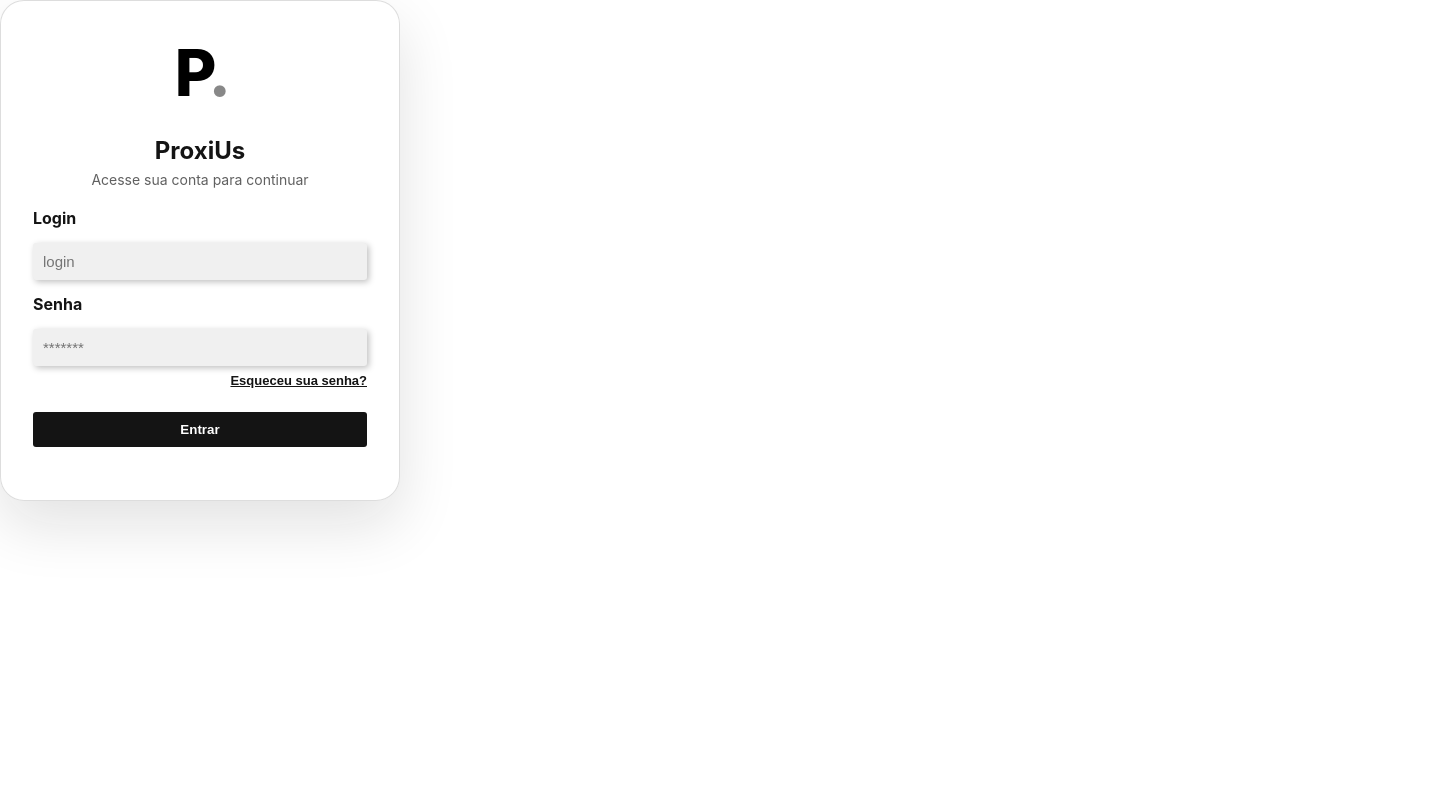
Test: shows the backend login error without calling browser alert
Type "usuario" into the field with placeholder "login" at (200, 261), box [33,243,367,280]
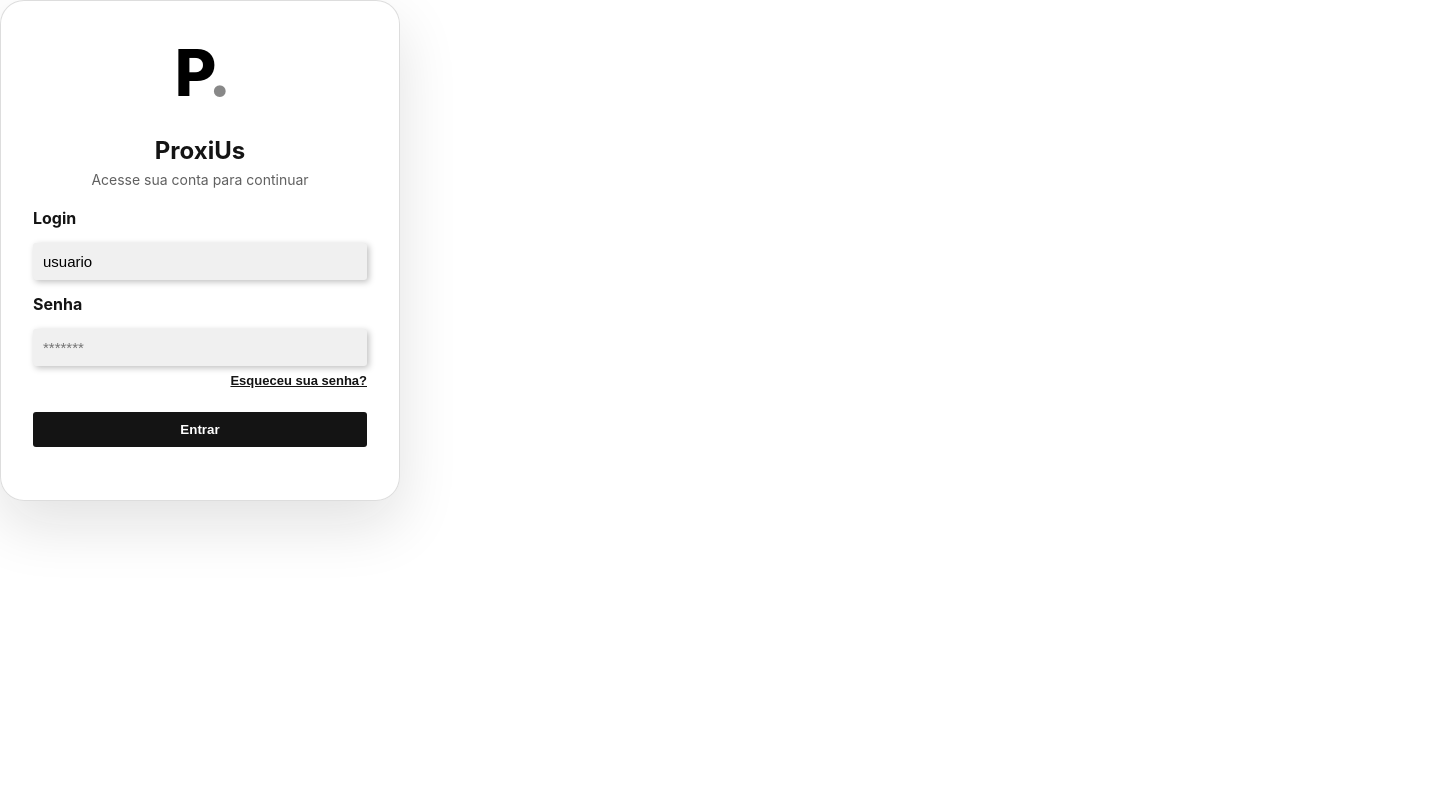
Type "senha" into the password field with placeholder "*******" at (200, 347), box [33,329,367,366]
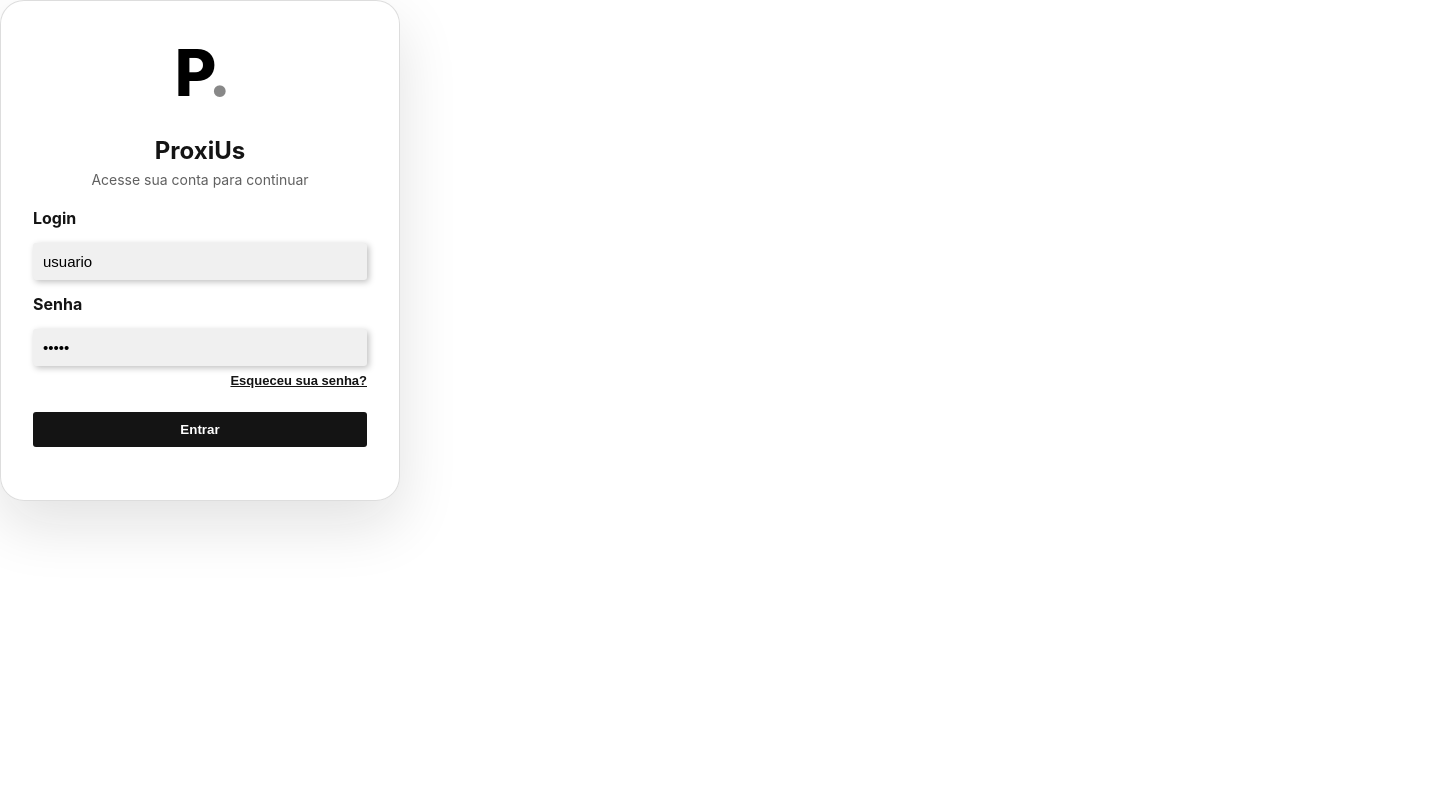
Click the button "Entrar" at (200, 429), box [33,412,367,446]
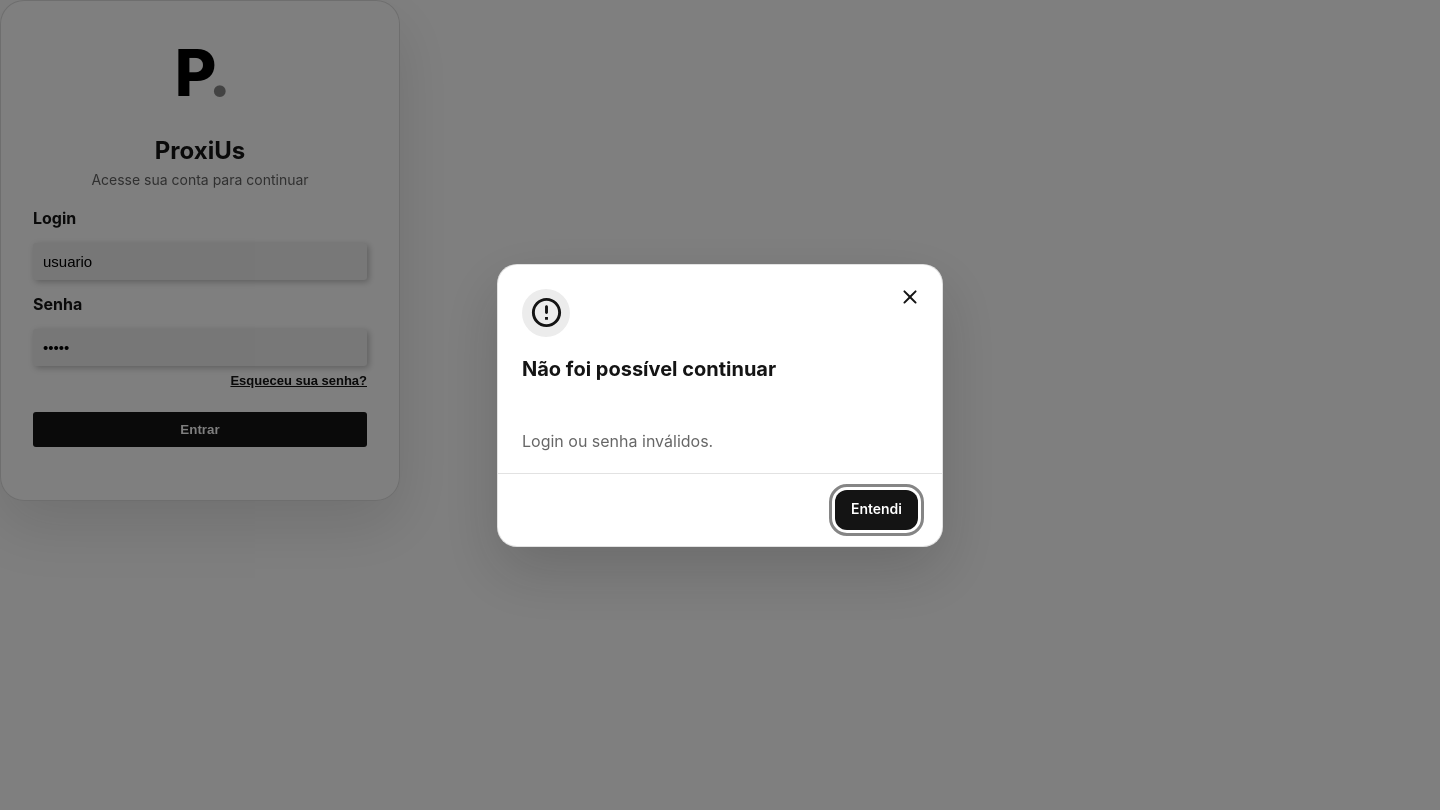
Now the dialog shows "Login ou senha inválidos.", box [522,430,713,450]
